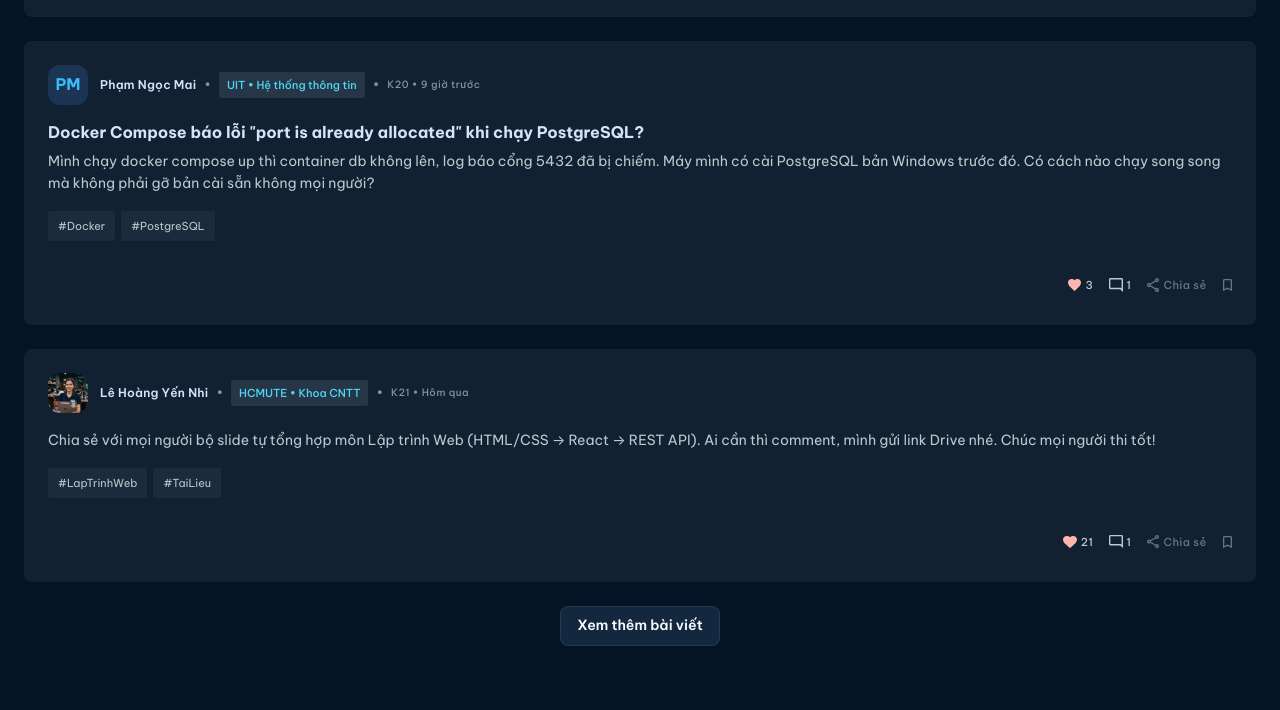
Test case: FeedPage › "Xem thêm bài viết" tải trang tiếp theo đến khi hết
(page scrolled)
Click the button "Xem thêm bài viết" at (640, 626), box [560,606,720,646]
(page scrolled)
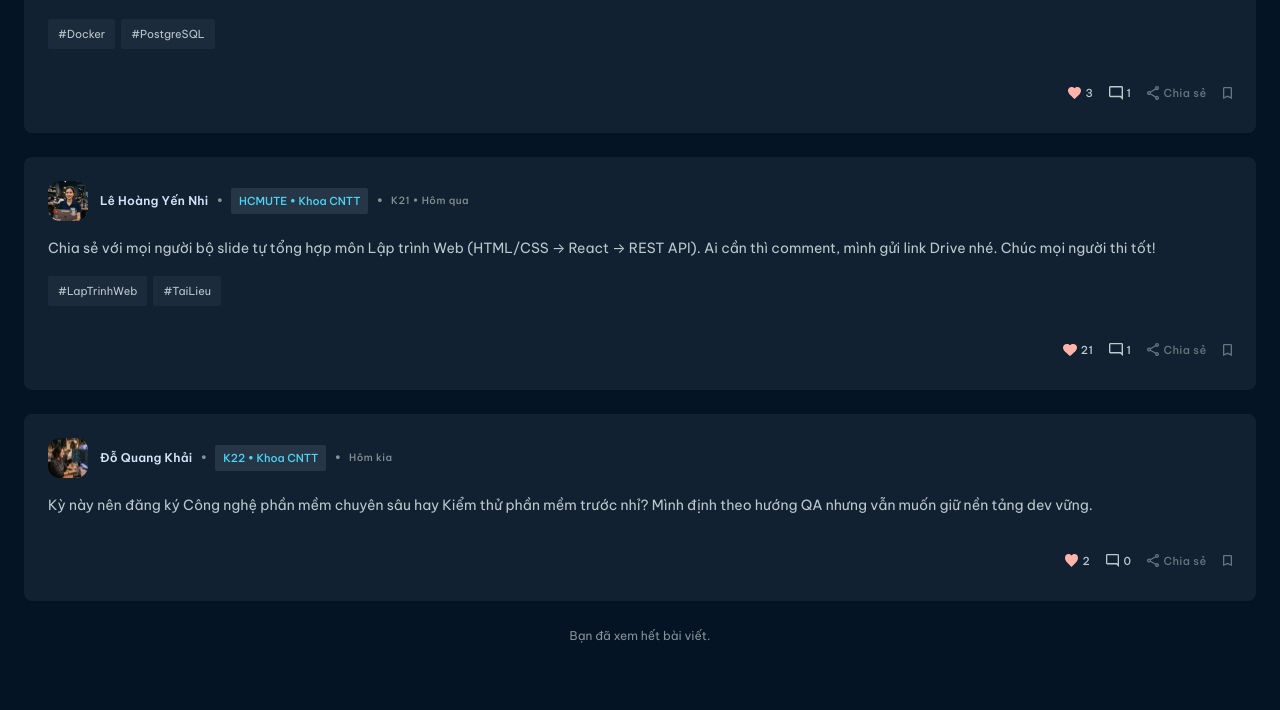
Now the text "Bạn đã xem hết bài viết." is shown, box [570,628,710,642]
Now the button "Xem thêm bài viết" is gone
